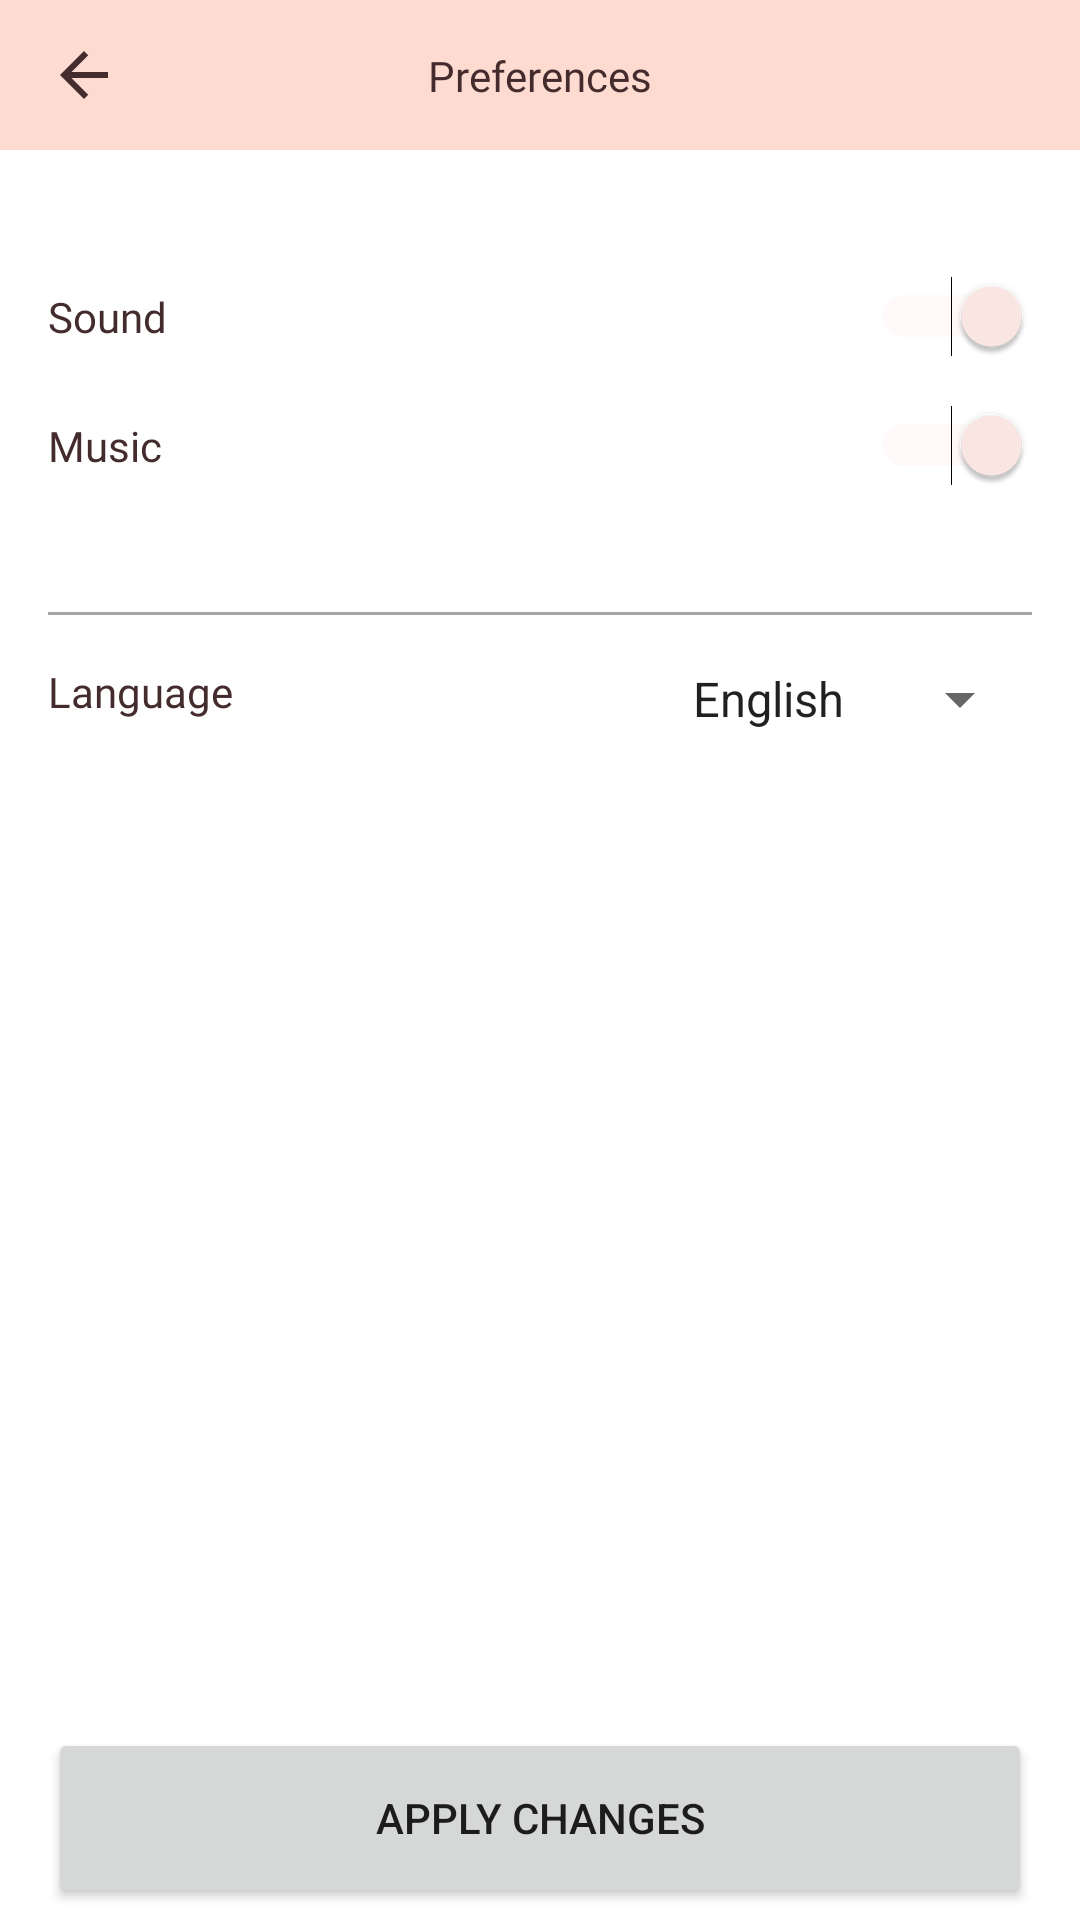

Icon click points for this 1080w x 1920h phone screenshot, format (x,y):
back: (84,75)
